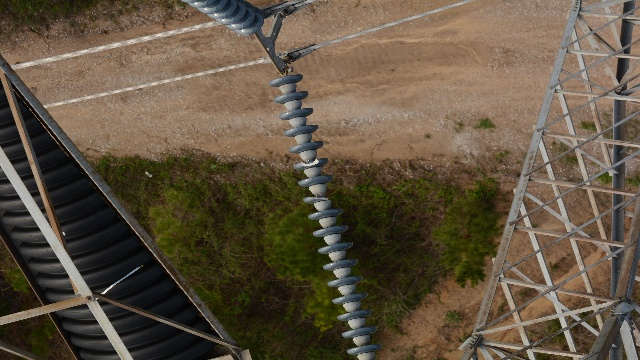broken_local: (297, 157, 326, 170), (308, 192, 334, 203)
insulator_unspecified: (270, 73, 382, 354), (185, 0, 265, 36)
